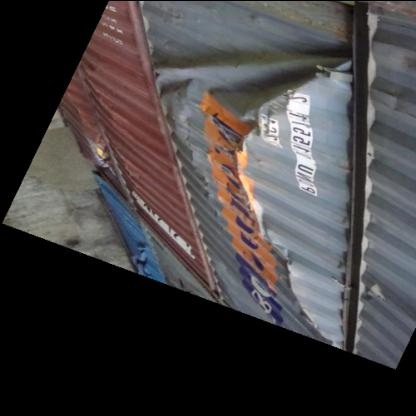Damage: (208, 105, 330, 342), (145, 40, 348, 124), (168, 82, 226, 199)
